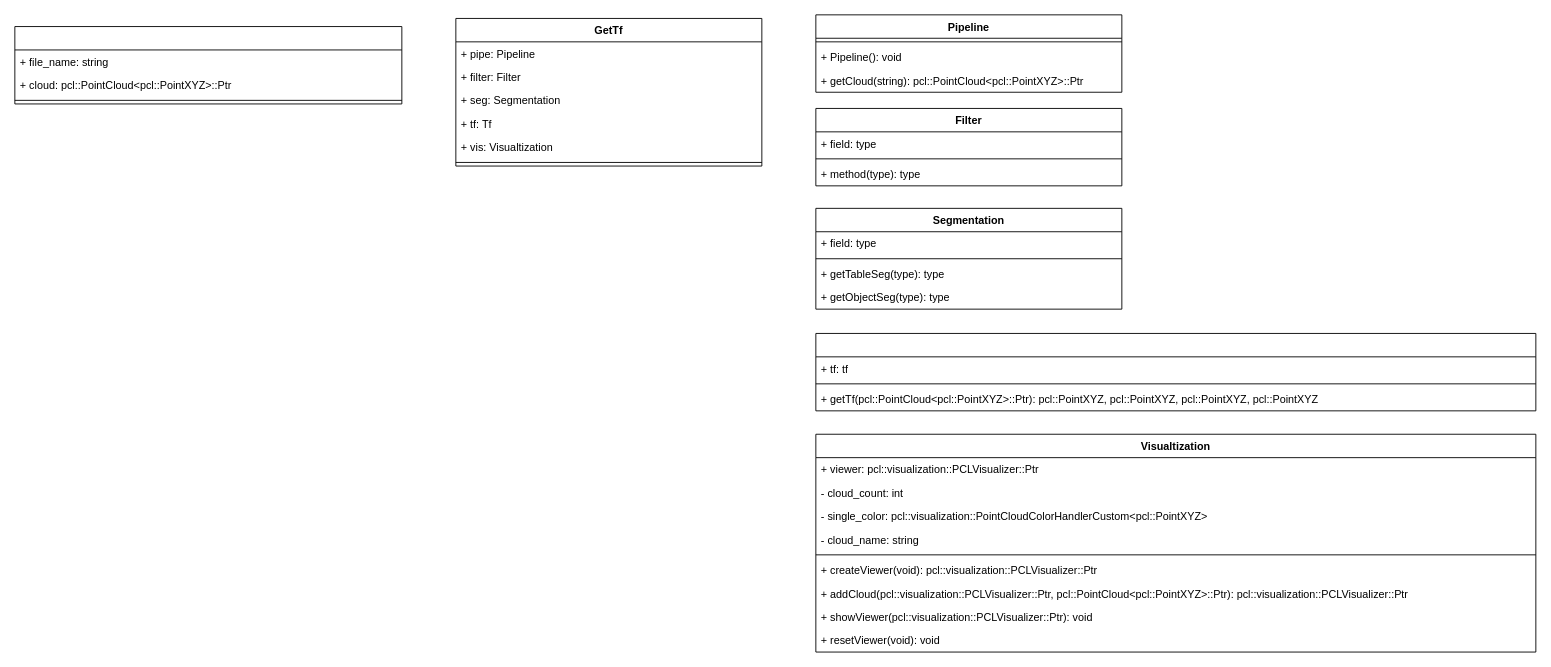
The diagram is 1551 pixels wide and 667 high, and some of its shapes have lost their labels. Each missing label, with the box of its shape:
Main: (14, 26, 402, 104)
Tf: (815, 333, 1536, 411)
